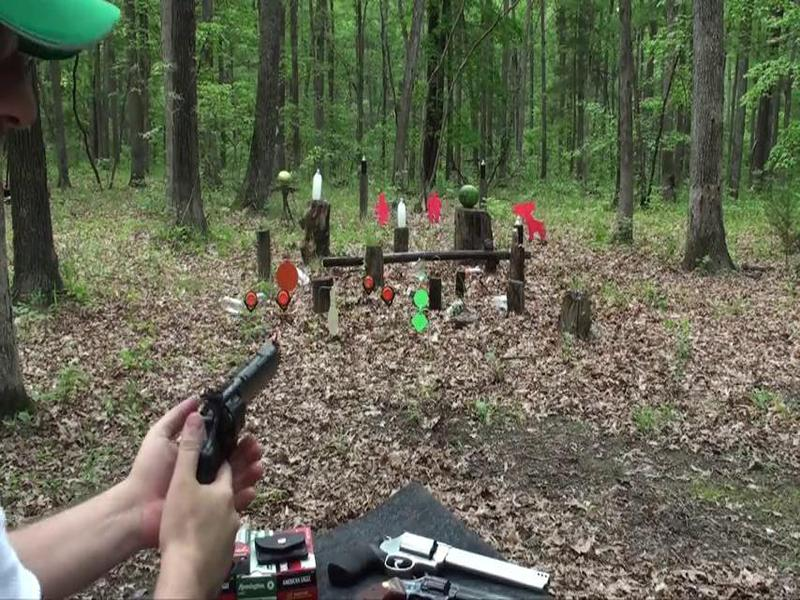Revolver: (156, 317, 301, 494)
